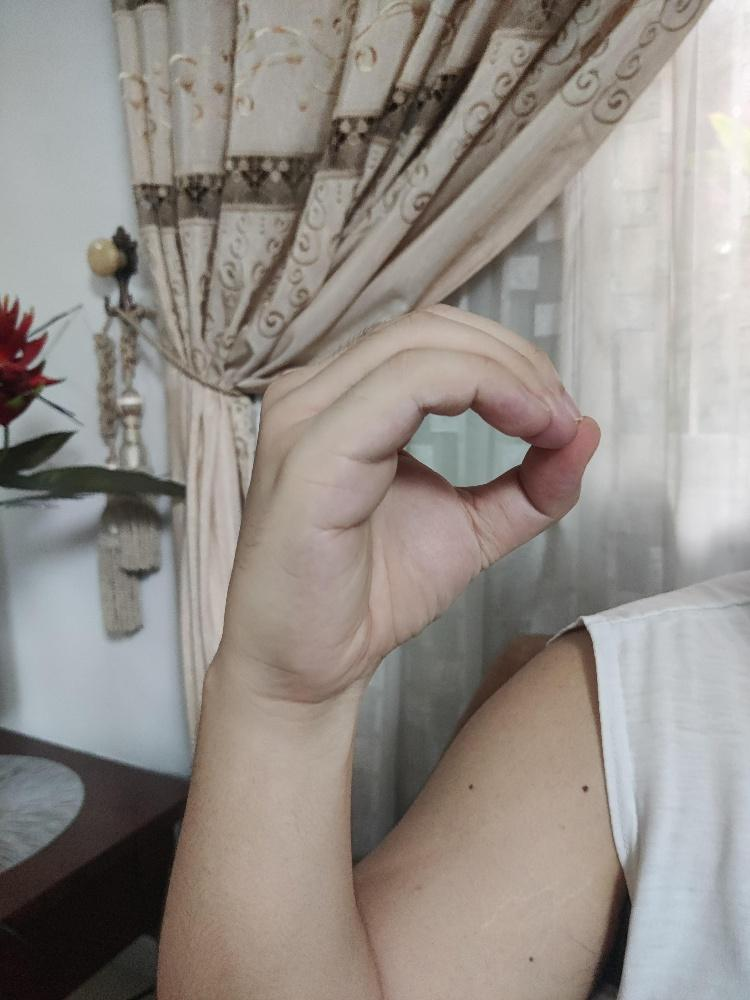o: (240, 299, 604, 694)
